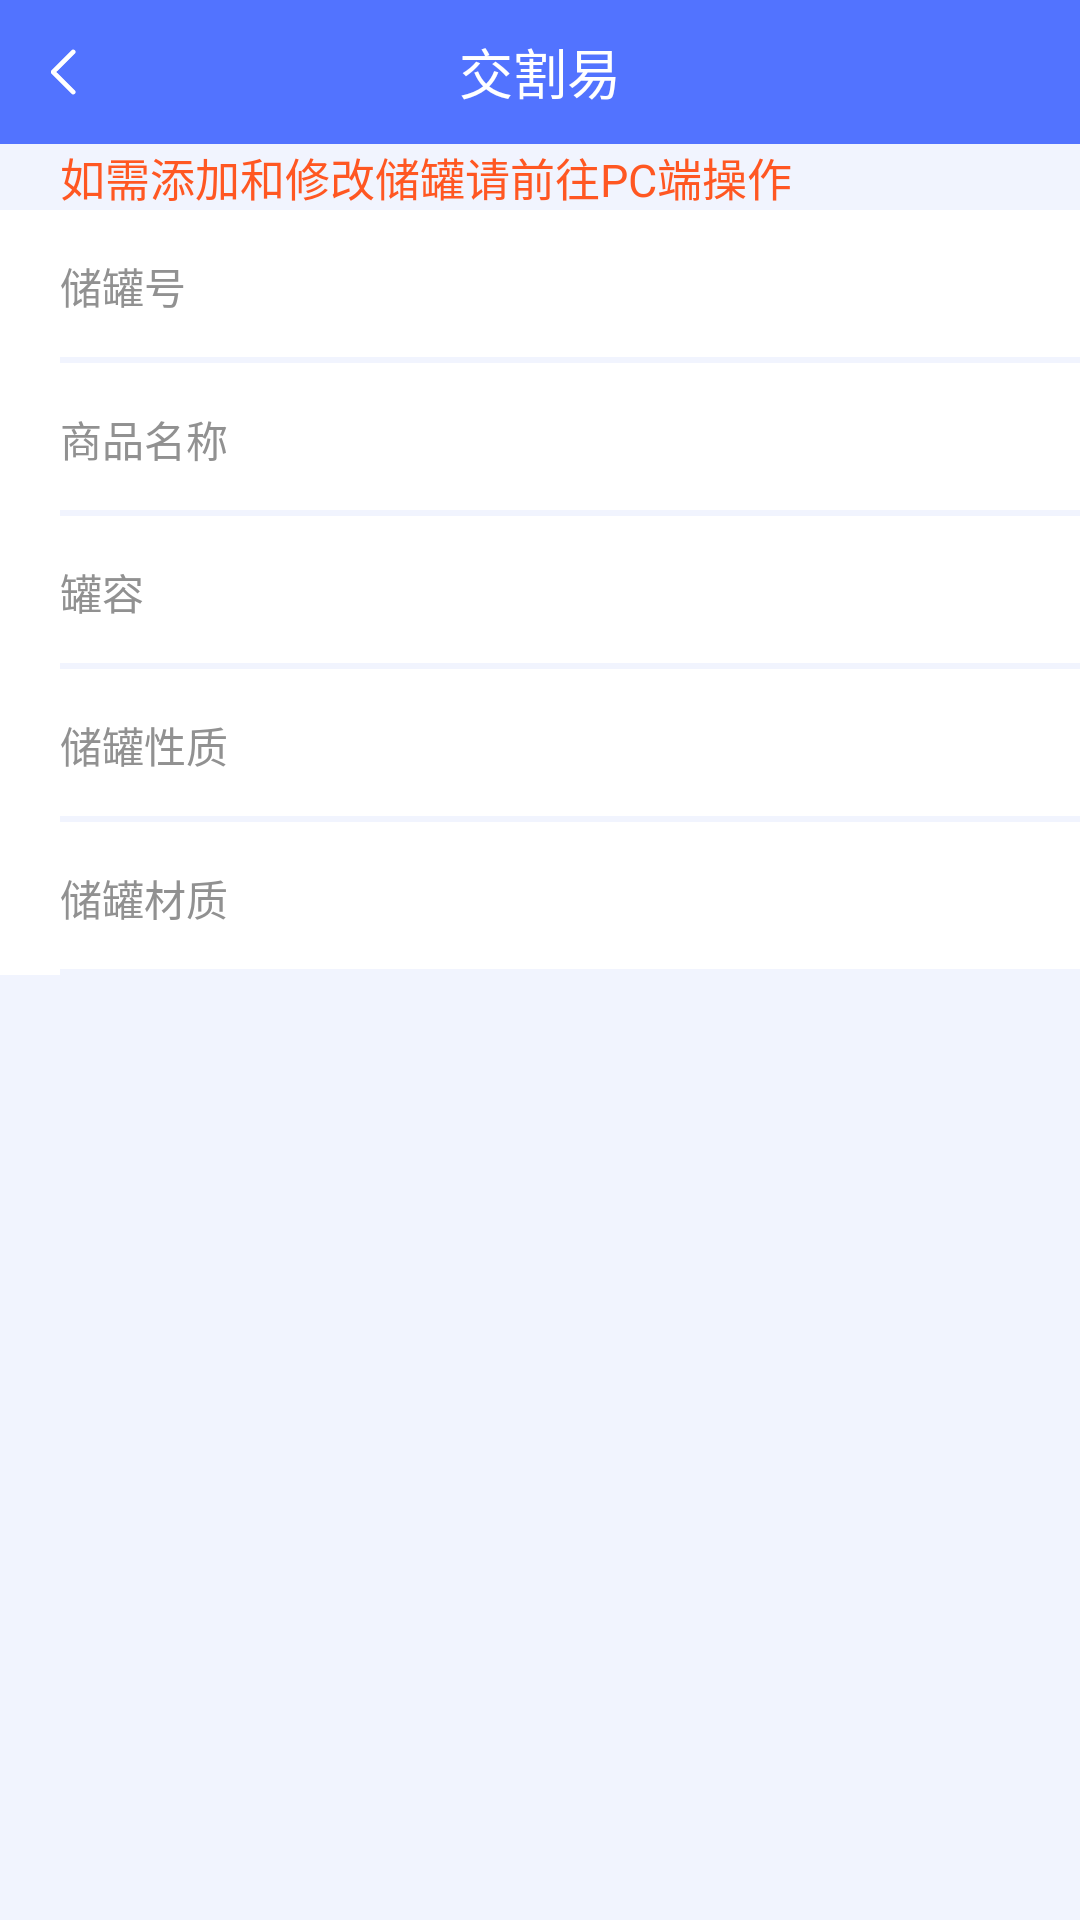

Icon bounding boxes for this 1080*1920 phone screenshot, format (x1, y1, x2, y2):
left arrow: (51, 49, 76, 95)
